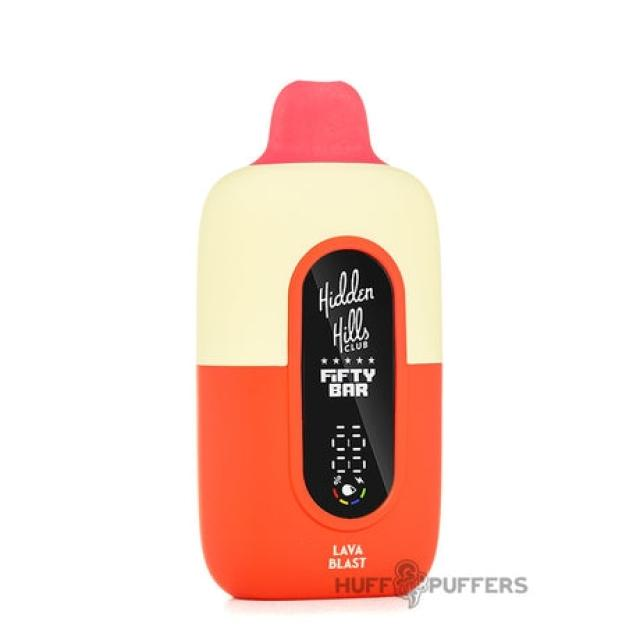Hazard: (193, 78, 444, 602)
